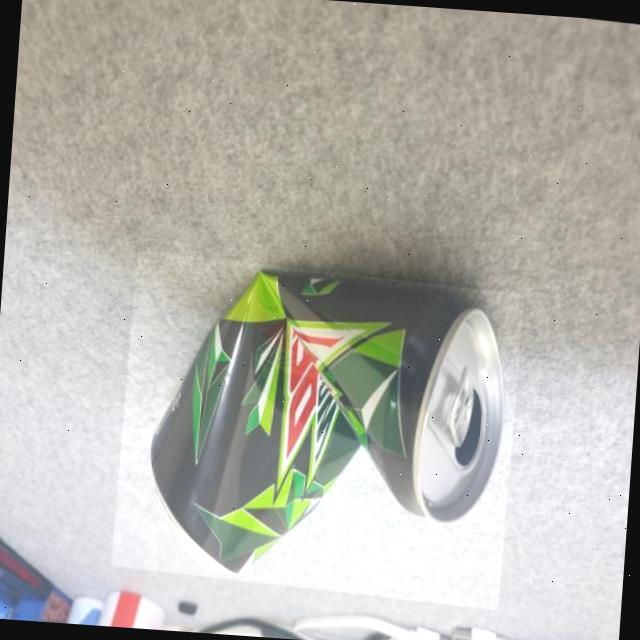trash: (112, 248, 527, 606)
